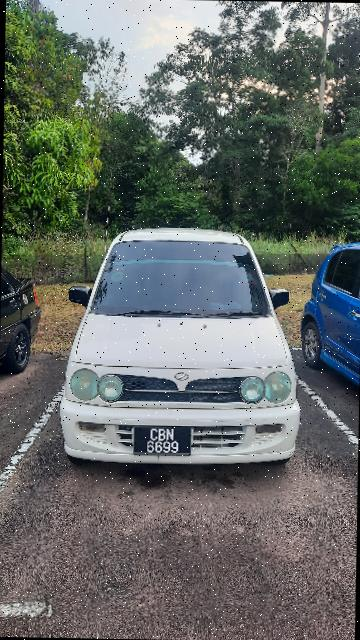License_Plate: (128, 423, 197, 463)
car: (54, 223, 310, 477)
